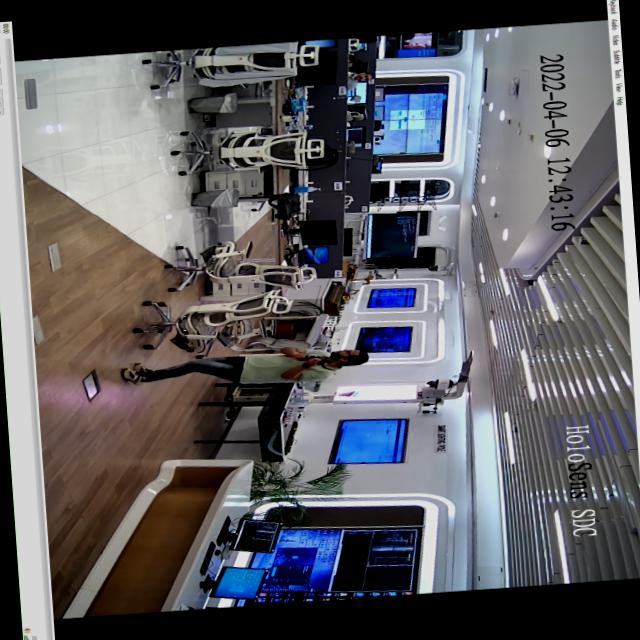long weapon: (290, 347, 336, 376)
